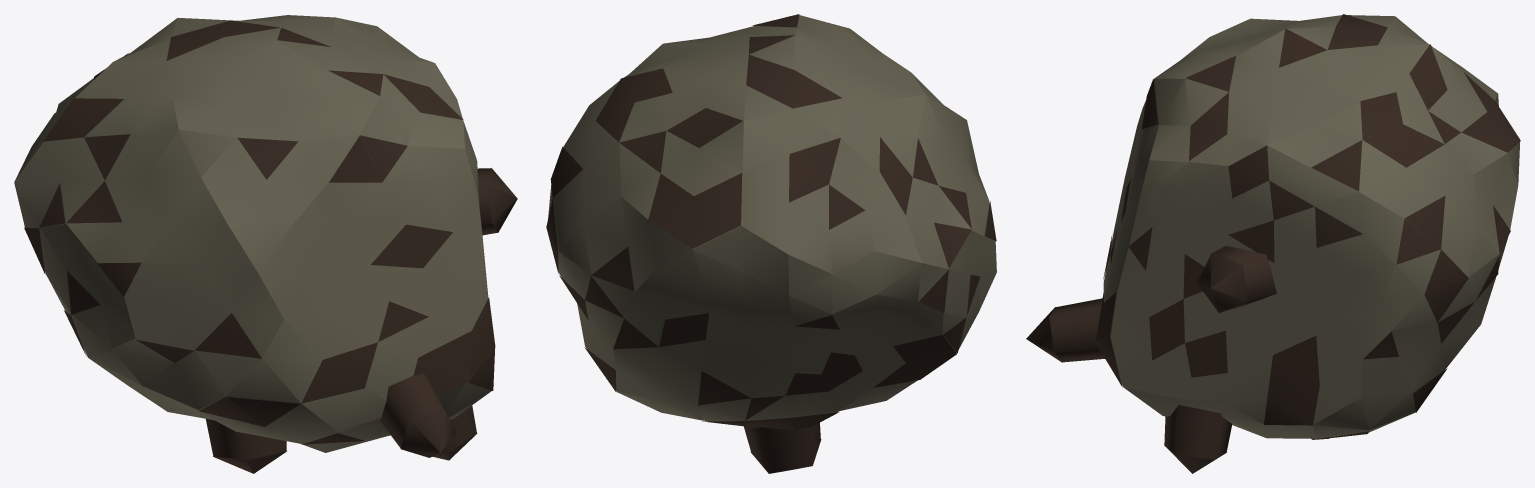
The model's file is ore_tin_web.glb.
3 views of the same model, side by side, from view 1: azimuth 30°, elevation 25°; view 2: azimuth 150°, elevation 25°; view 3: azimuth 270°, elevation 25° (orthographic). The views are drawn at different scales.
Parts seen in each view (by area): view 1: tin_matrix, tin_cassiterite_stain, tin_cassiterite_crystals; view 2: tin_matrix, tin_cassiterite_stain, tin_cassiterite_crystals; view 3: tin_matrix, tin_cassiterite_stain, tin_cassiterite_crystals.
Part boxes in pixels (x1,y1,x2,y2): tin_matrix: (14,15,491,452); tin_cassiterite_stain: (24,20,495,444); tin_cassiterite_crystals: (206,168,517,473); tin_matrix: (548,15,996,421); tin_cassiterite_stain: (546,14,996,430); tin_cassiterite_crystals: (744,422,821,473); tin_matrix: (1097,15,1520,438); tin_cassiterite_stain: (1095,14,1520,439); tin_cassiterite_crystals: (1026,246,1331,473).
Bounding box in the file's own units: 0.8953 × 0.9457 × 1.02.
